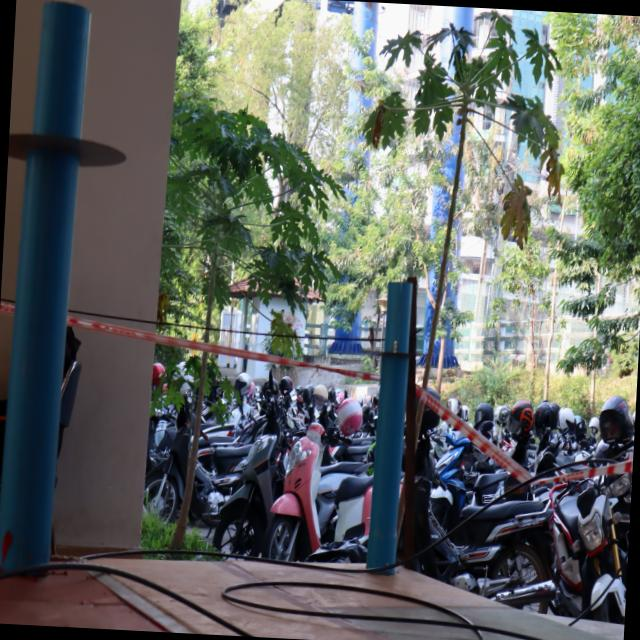pole: (4, 0, 140, 238), (350, 274, 440, 421)
